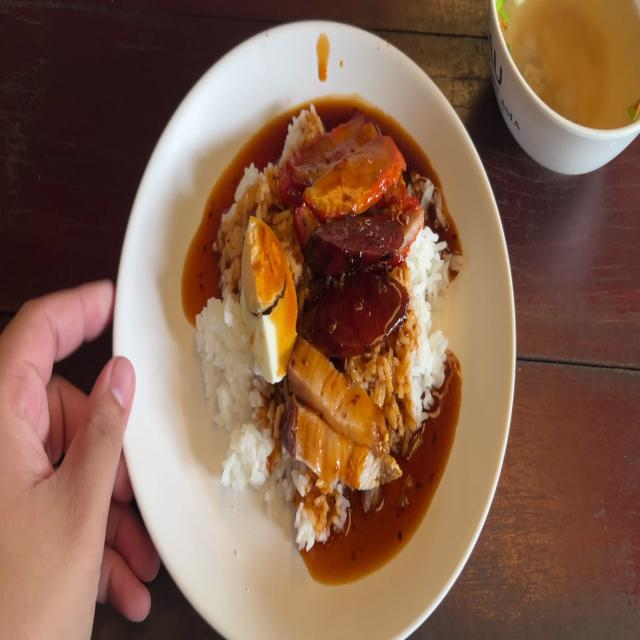01boiled_egg: (237, 216, 300, 387)
01chainese_sausage: (308, 276, 406, 345), (314, 223, 400, 256)
01crispy_pork: (301, 347, 383, 441), (287, 406, 395, 475)
01red_pork: (282, 115, 403, 215)
01red_pork_and_crispy_pork: (193, 112, 447, 540)
01rice: (196, 215, 248, 506), (412, 238, 457, 422), (221, 398, 287, 484), (284, 484, 344, 550), (285, 105, 322, 150), (240, 161, 273, 204)
